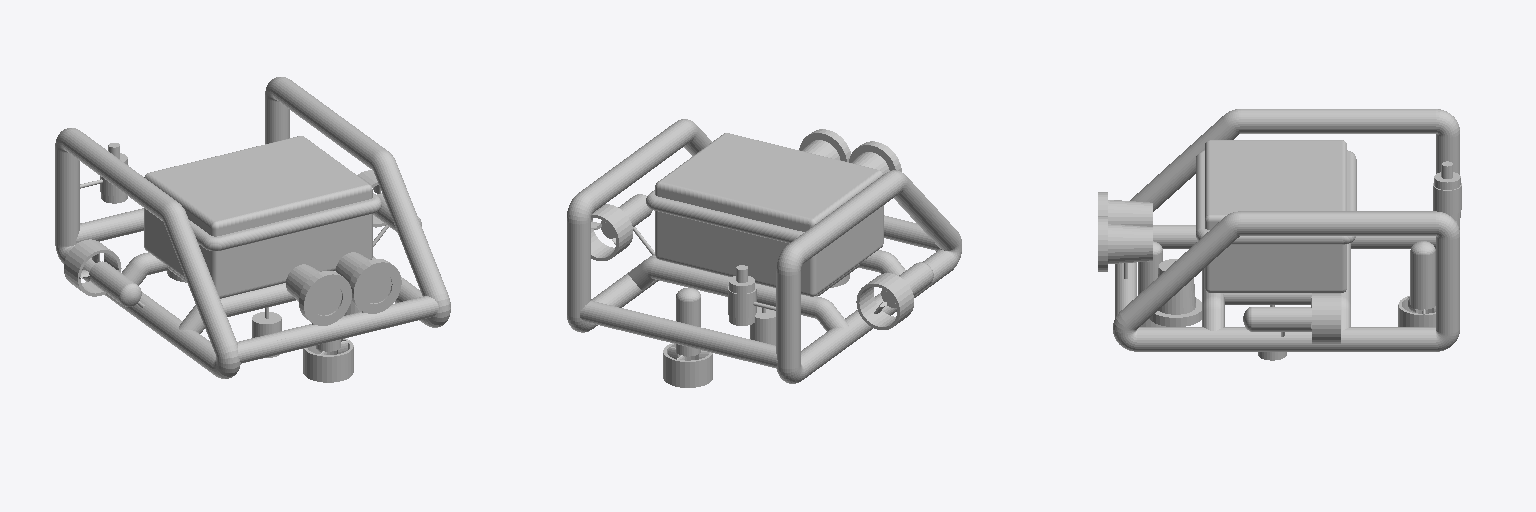
Rendered from hanse_very_high.obj.
3 views of the same model, side by side, from view 1: azimuth 30°, elevation 25°; view 2: azimuth 150°, elevation 25°; view 3: azimuth 270°, elevation 25° (orthographic).
Bounding box in the file's own units: 6.54 × 3.65 × 6.34.